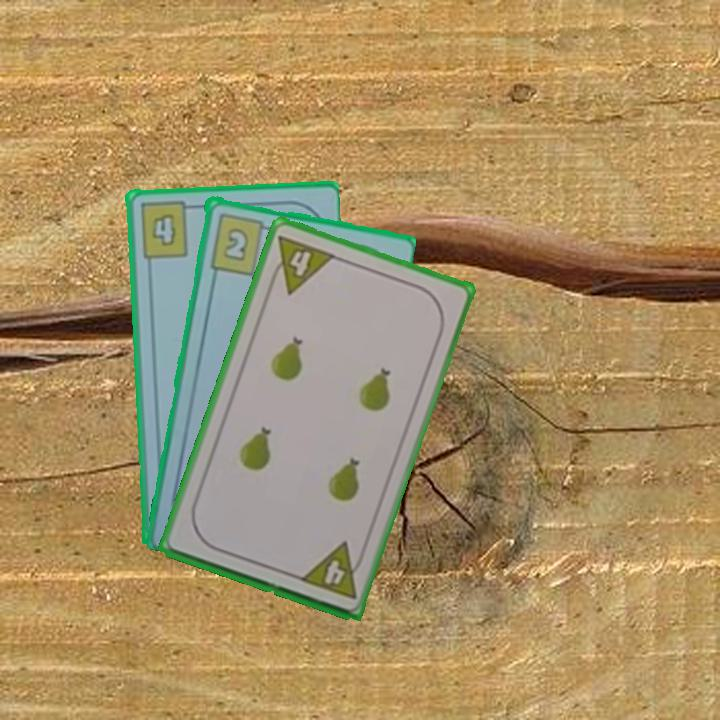2b: (206, 209, 275, 277)
4b: (136, 198, 199, 261)
4p: (264, 231, 338, 297), (296, 538, 368, 602)
